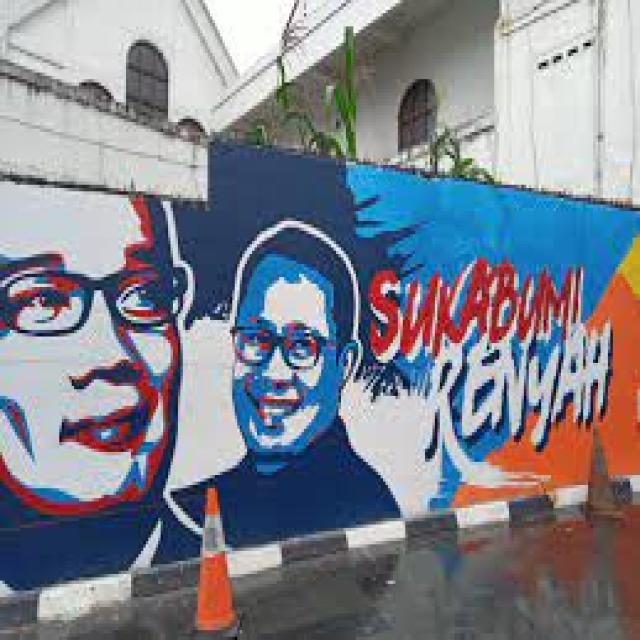-: (0, 183, 640, 584)
